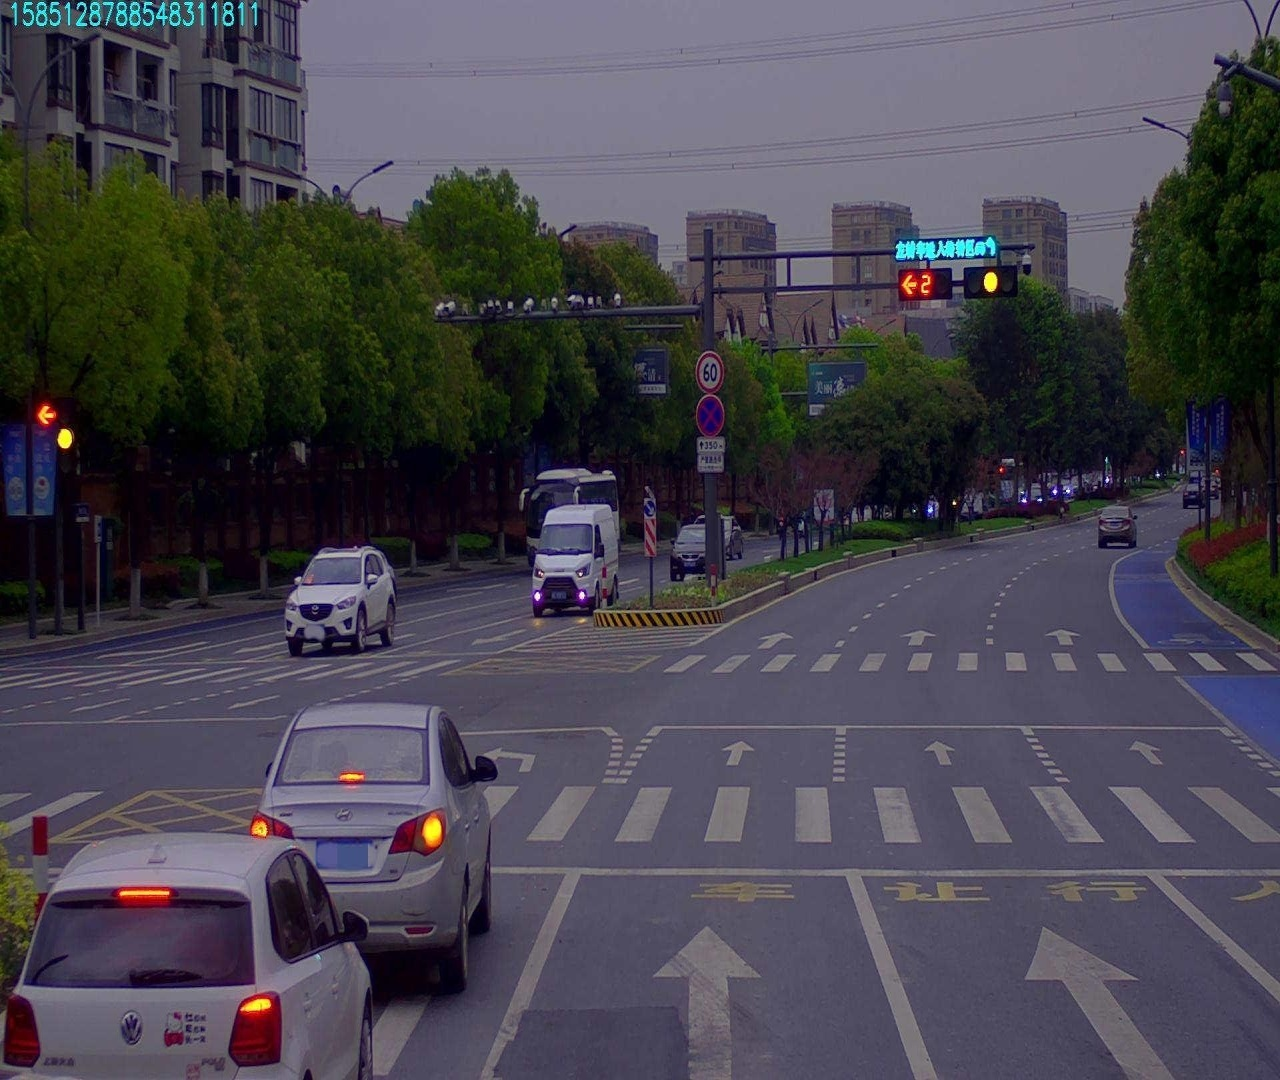red: (898, 267, 950, 302)
yellow: (965, 270, 1020, 302)
